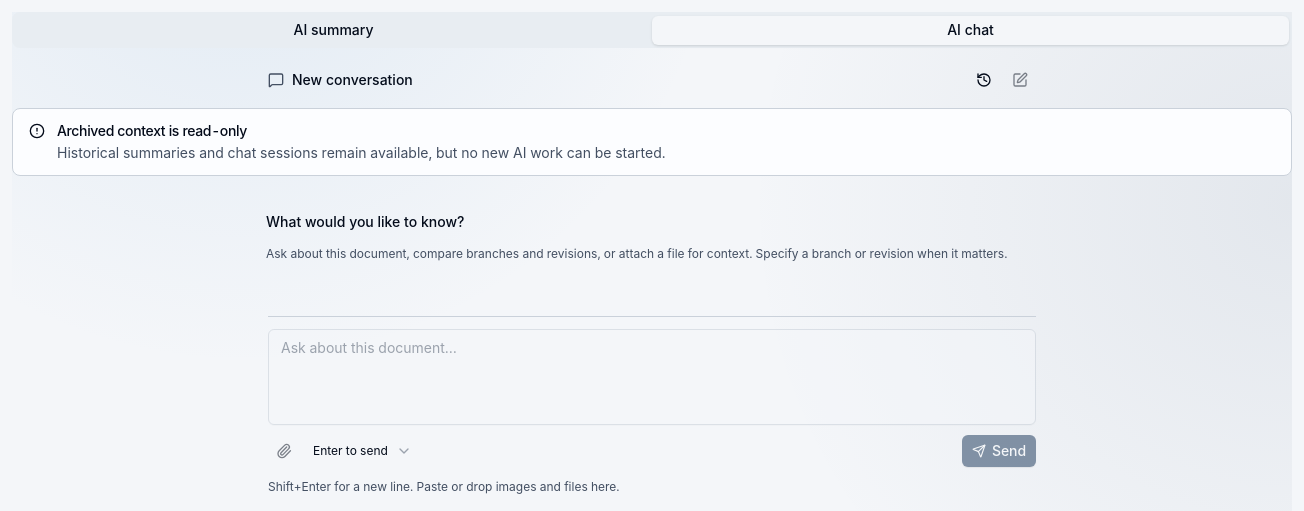
Test: document workspace AI context › preserves read-only permissions for an exact historical target
Check: the text box named "AI chat message" is disabled, box [268, 329, 1036, 425]
Check: the button with aria-label "Send AI message" is disabled, box [962, 435, 1036, 467]
Click the tab "AI summary" at (334, 30), box [15, 16, 652, 44]
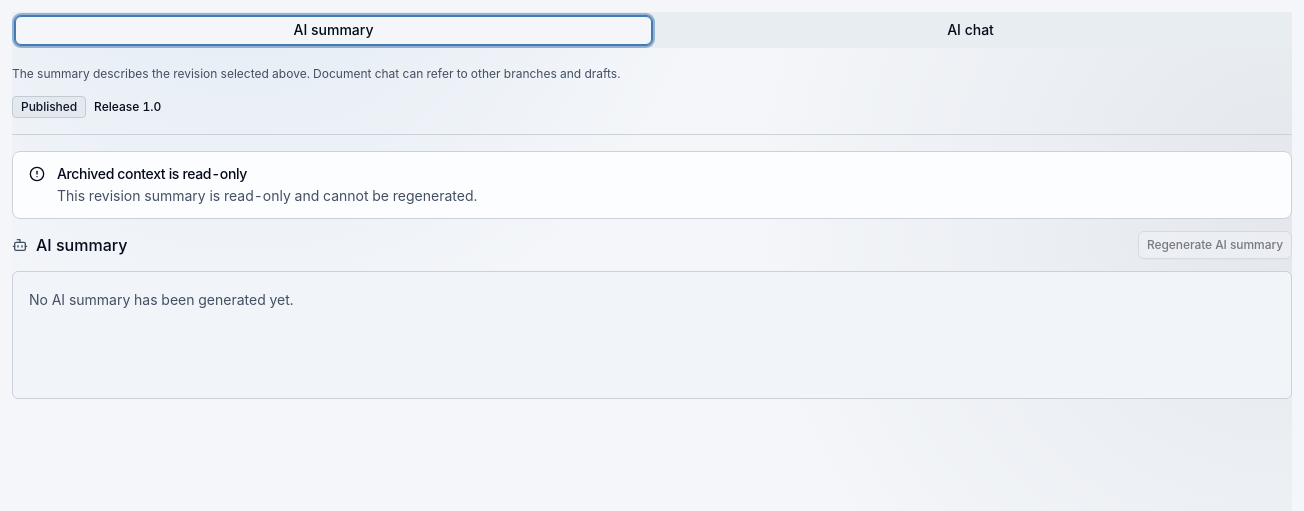
Check: the button "Regenerate AI summary" is disabled, box [1138, 231, 1292, 259]
